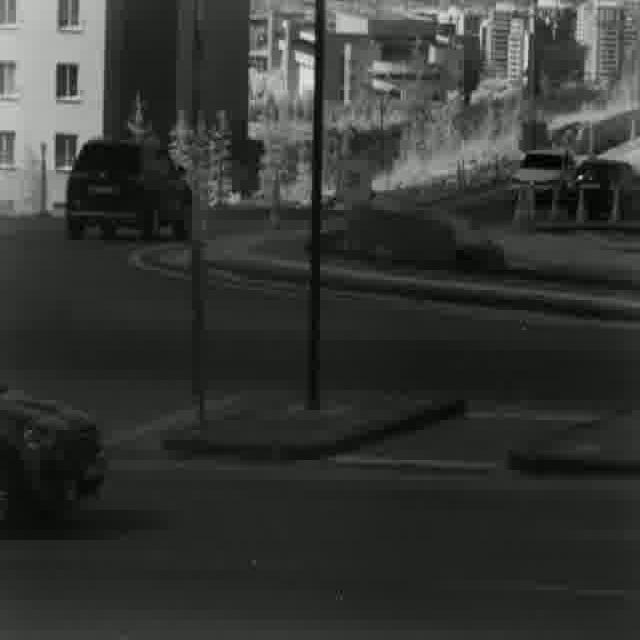Car: (0, 383, 107, 528), (66, 138, 196, 243), (568, 157, 636, 225), (508, 147, 574, 203)
